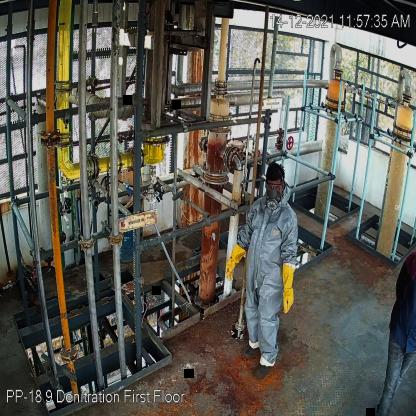goggles: (266, 179, 282, 190)
mask: (265, 190, 281, 210)
